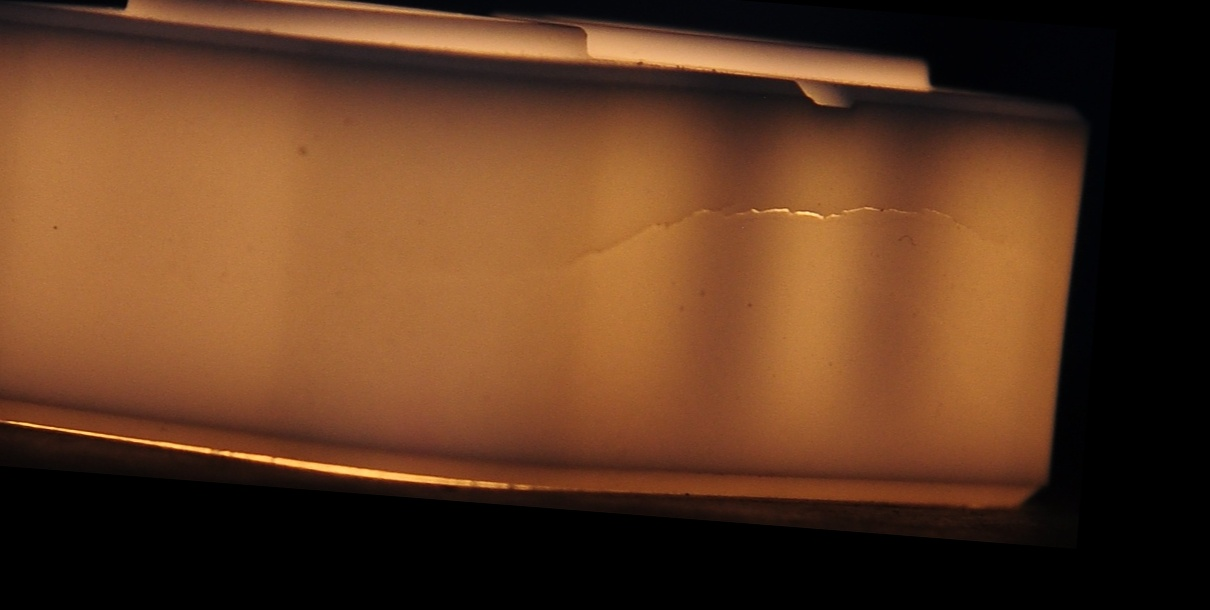flaw: (545, 184, 1052, 302)
